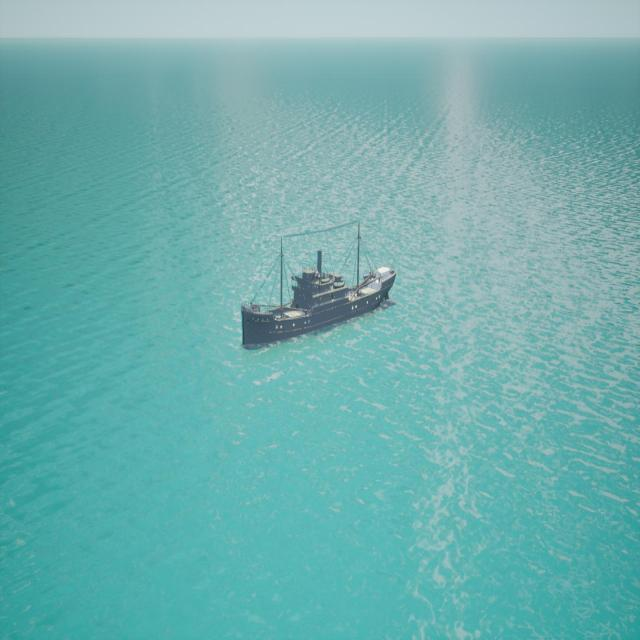fishing ship: (242, 244, 399, 351)
